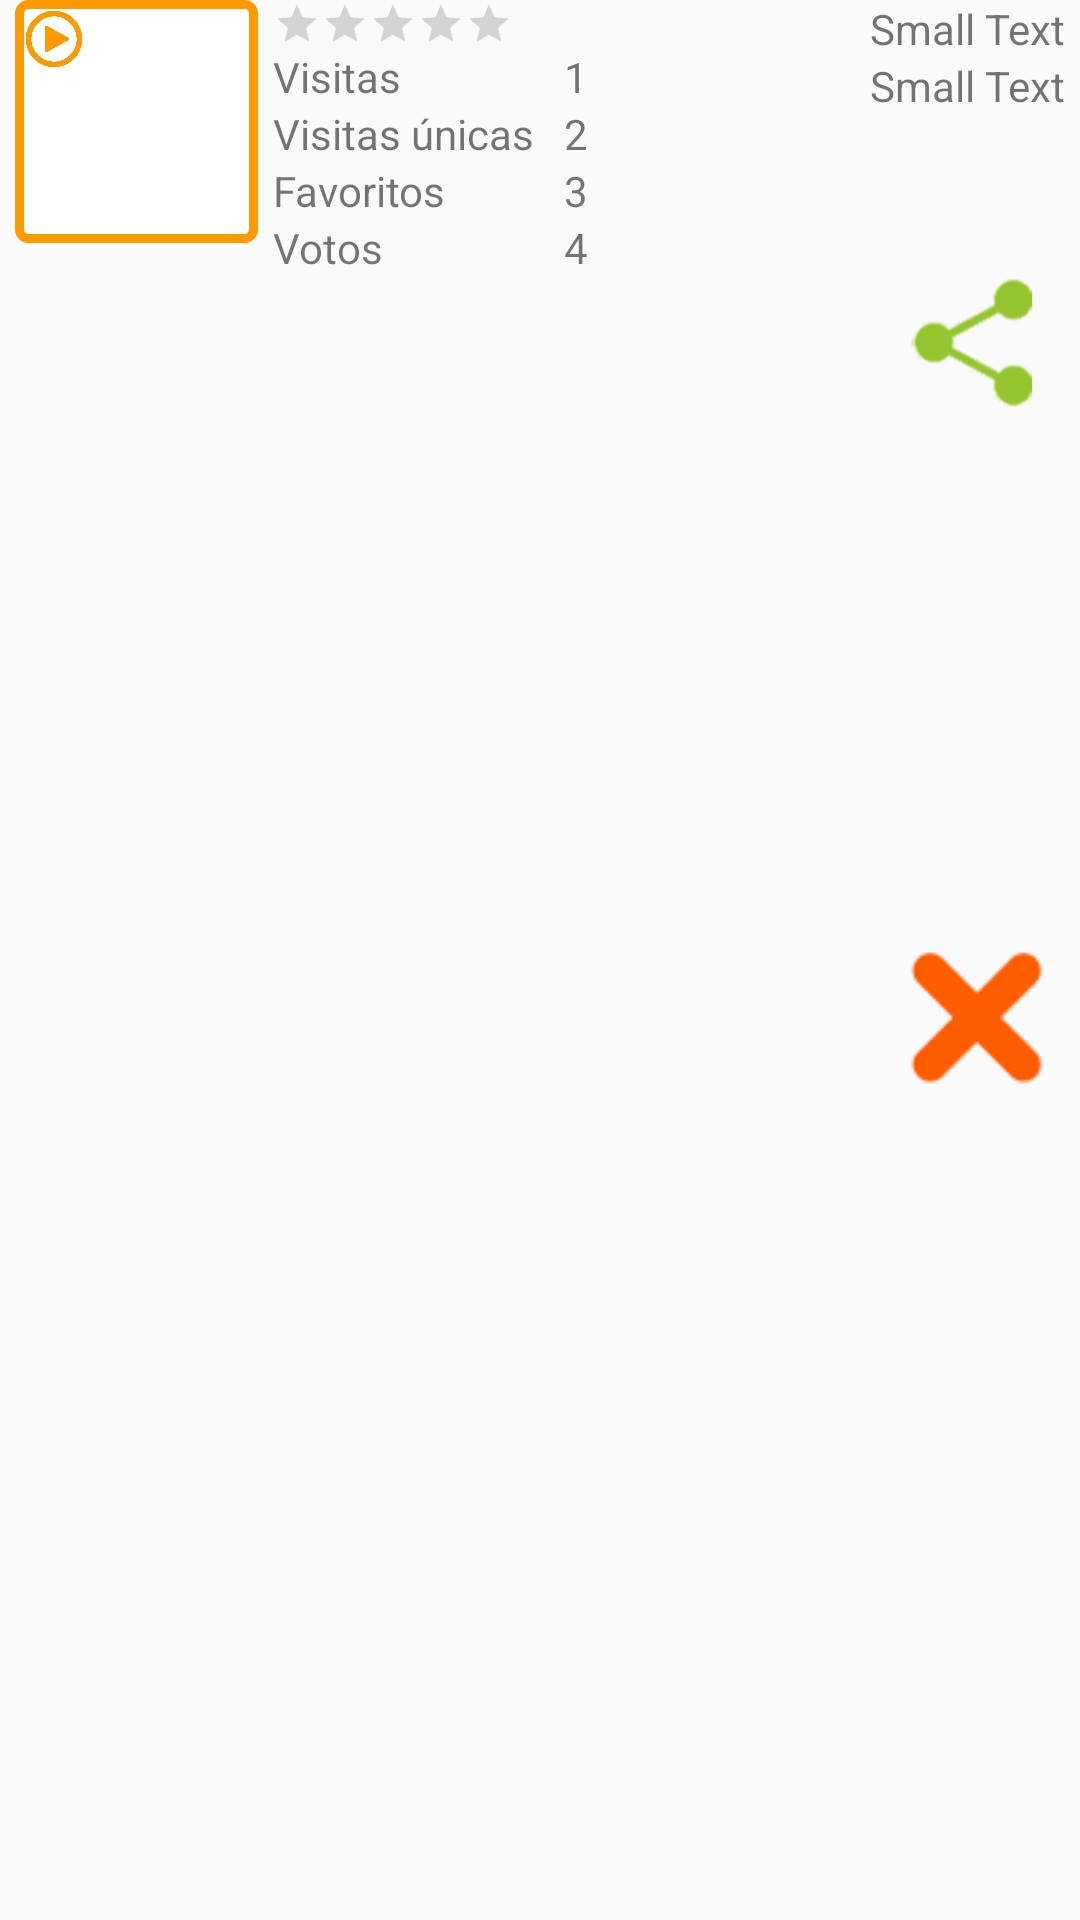

Named icons in this screenshot (1080x1920) and their centers, [x,y]:
delete: [976,1018]
play: [54,39]
share: [972,343]
